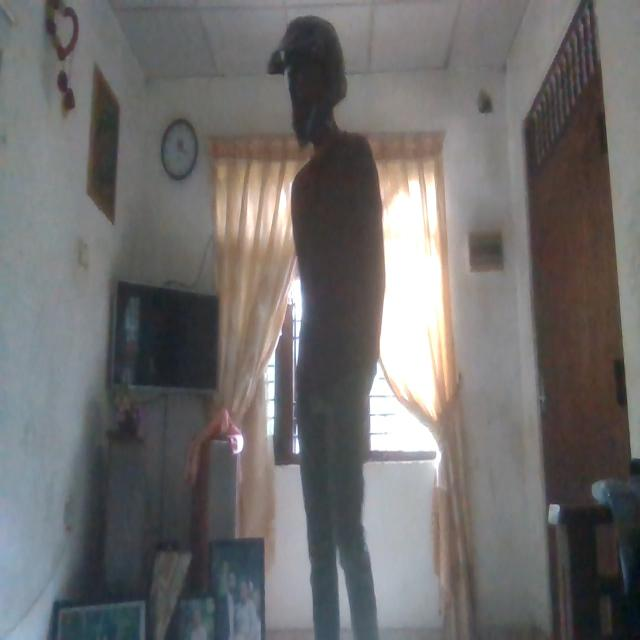Helmet_Wearer: (265, 15, 353, 140)
Person: (268, 19, 397, 640)
